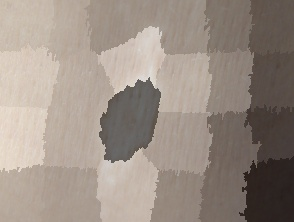vitiligo: (47, 19, 238, 215)
